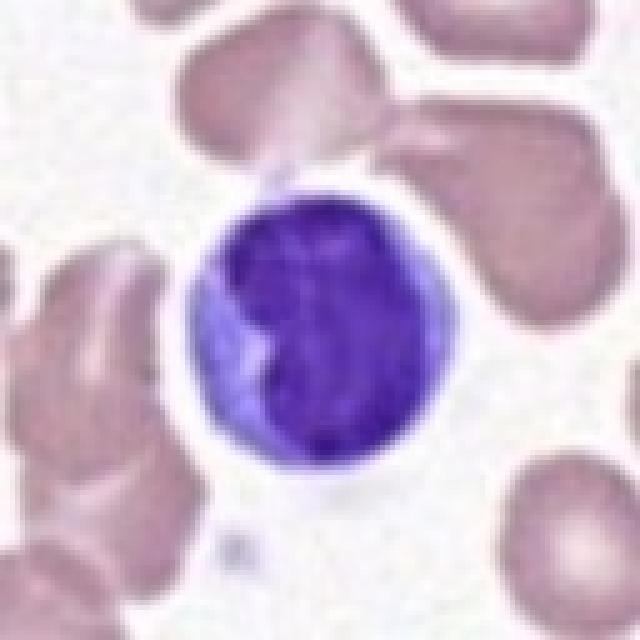lympho: (183, 176, 466, 477)
